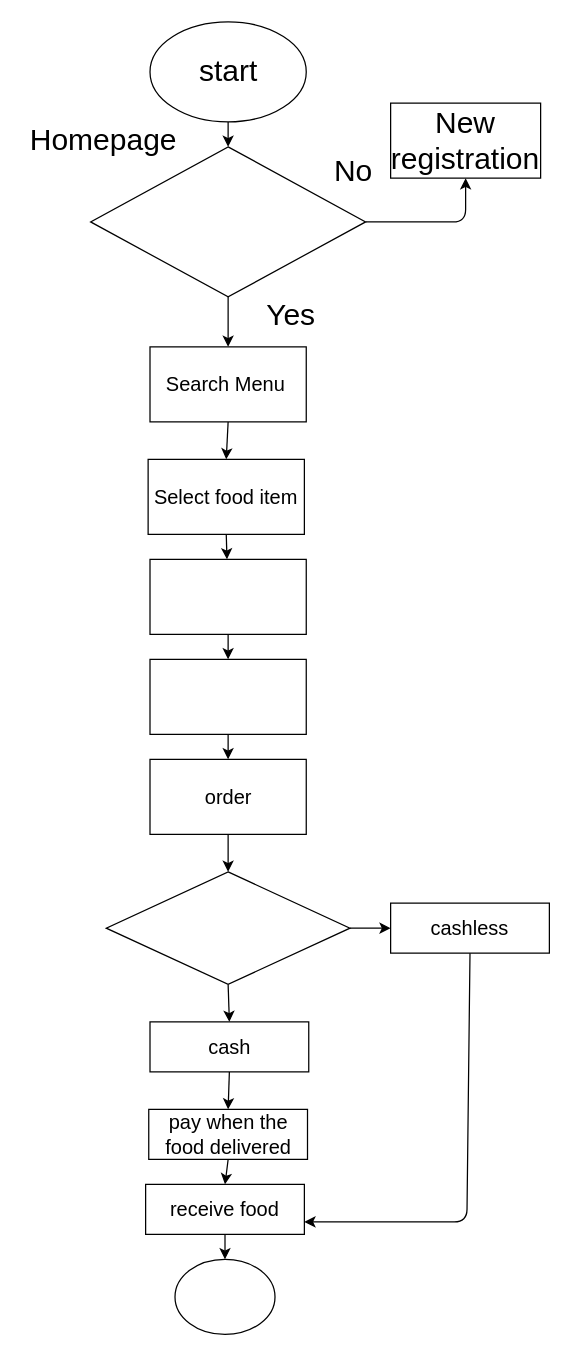
This 571x1356 diagram has some shape labels left out. The box of each missing label's shape, as (x1, y1, x2, y2) in pixels:
add item to cart: (149, 558, 306, 634)
finish: (174, 1258, 275, 1334)
Login: (89, 146, 366, 297)
Payment method: (105, 871, 350, 984)
set delivary address: (149, 658, 306, 734)
